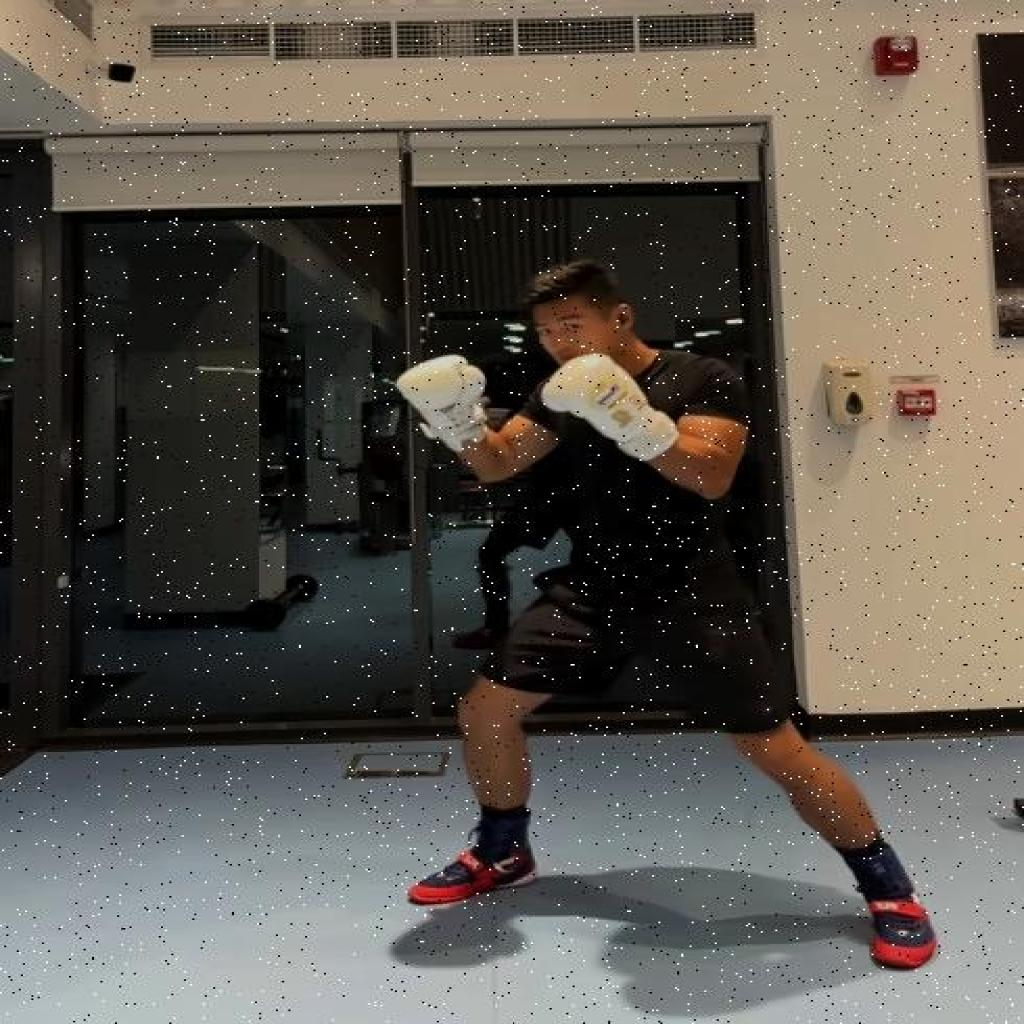no punch: (370, 244, 949, 986)
